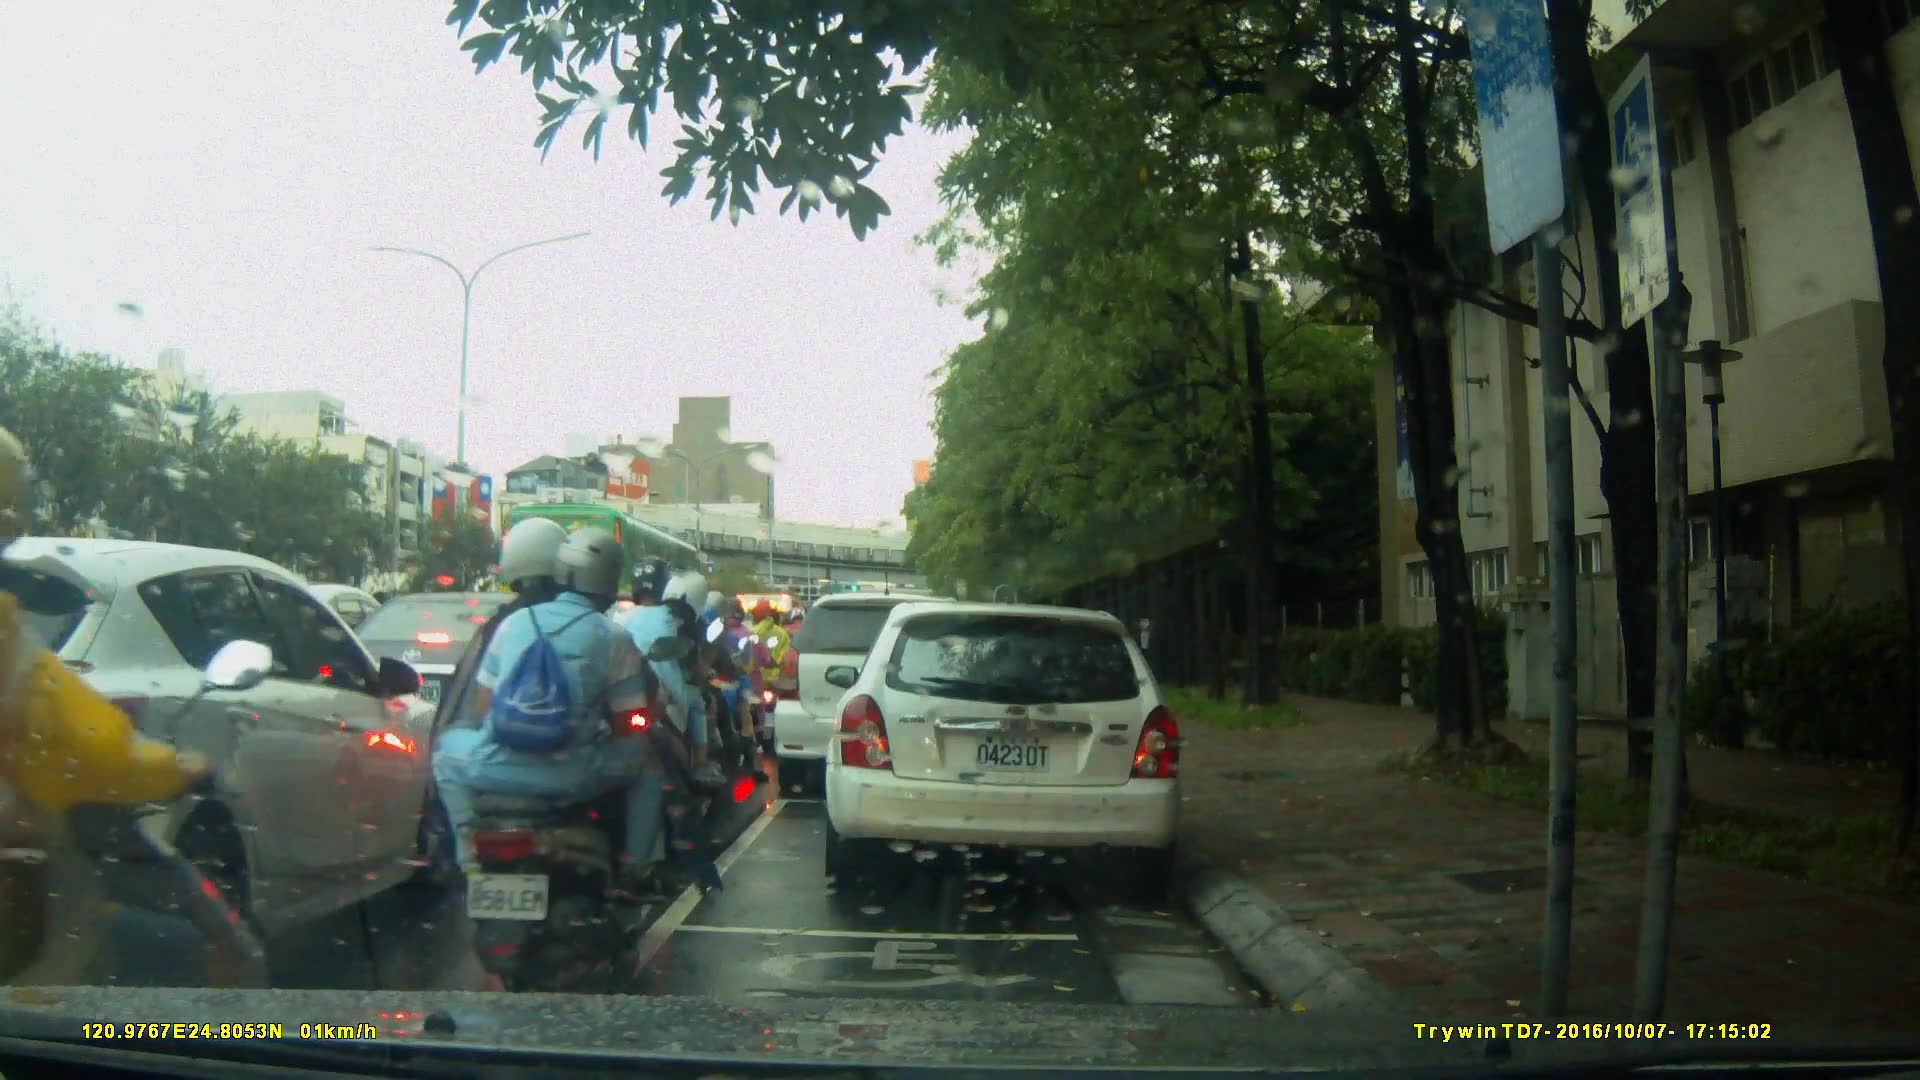rider: (1, 419, 284, 1080), (431, 519, 698, 1003), (592, 562, 716, 839), (687, 588, 768, 780), (671, 585, 745, 780), (704, 598, 777, 764), (749, 598, 797, 737)
vehicle: (3, 536, 460, 987), (831, 592, 1196, 897), (312, 590, 629, 776), (773, 590, 999, 803), (497, 501, 712, 636)
